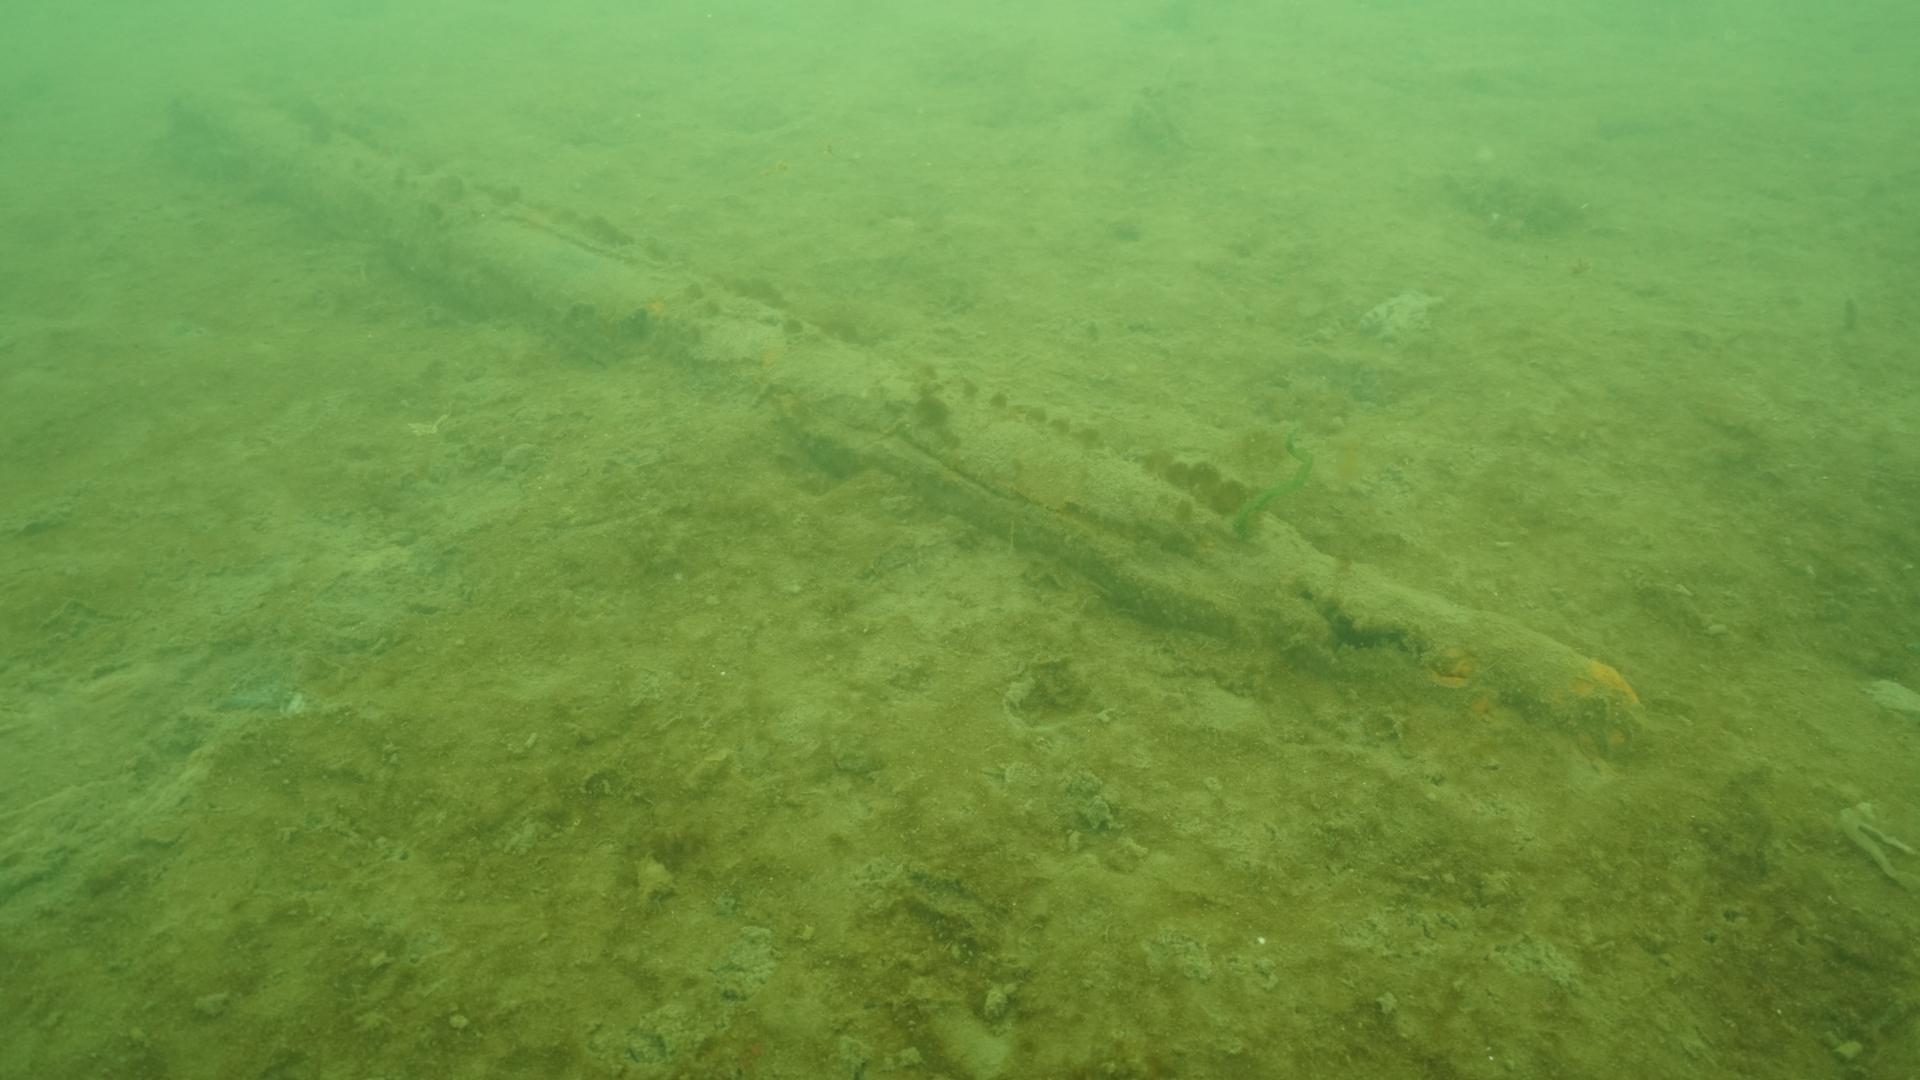wood: (175, 73, 1640, 752)
